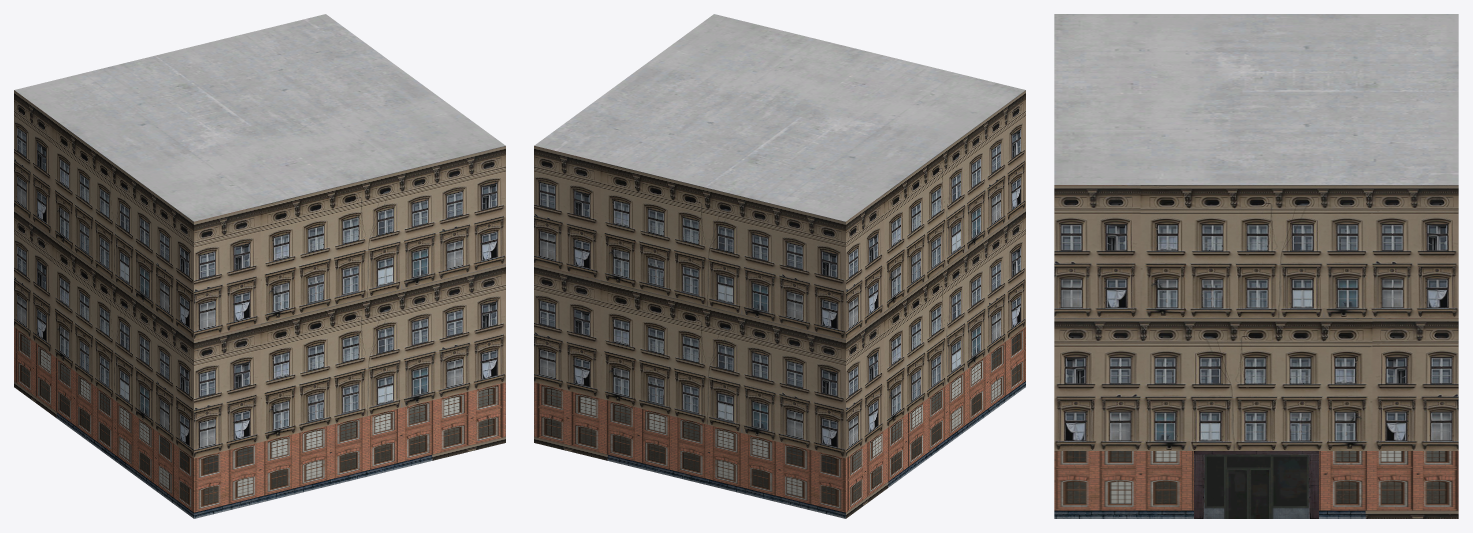
The model's file is Classical Building 05.FBX.
The picture shows the model from 3 angles, left to right: view 1: azimuth 30°, elevation 25°; view 2: azimuth 150°, elevation 25°; view 3: azimuth 270°, elevation 25°; orthographic projection. The views are drawn at different scales.
Visible parts, largest first — view 1: Classical Building 05; view 2: Classical Building 05; view 3: Classical Building 05.
Boxes of the visible parts, box(x1,y1,x2,y2) form: Classical Building 05: box(14, 14, 505, 518); Classical Building 05: box(534, 14, 1025, 518); Classical Building 05: box(1054, 14, 1458, 518).
Bounding box in the file's own units: 508 × 463 × 508.
